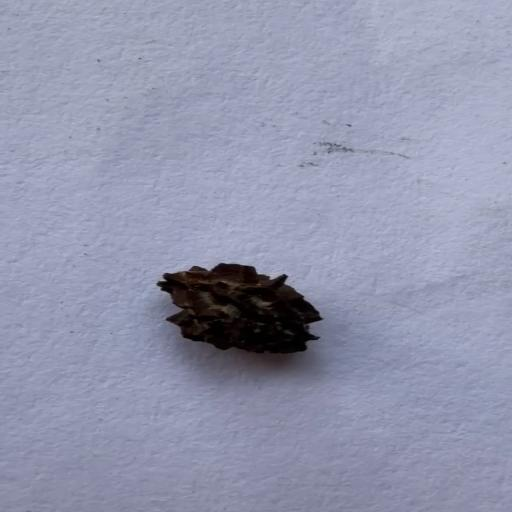papaya_seed: (144, 262, 322, 357)
